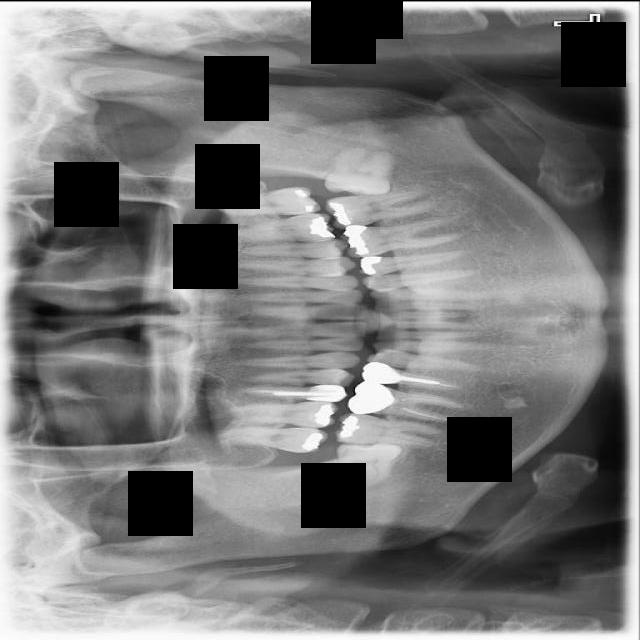52: (321, 185, 377, 237), (345, 374, 398, 425), (333, 408, 380, 448), (340, 224, 391, 259), (269, 184, 323, 217), (288, 209, 336, 245), (289, 398, 339, 429), (276, 426, 328, 454), (359, 358, 403, 389), (358, 255, 398, 276), (306, 384, 347, 401)
73: (384, 388, 466, 425), (396, 369, 466, 393), (238, 383, 310, 400), (566, 46, 579, 52)
BioHorizons Implant: (215, 185, 323, 217)
Biomet 3i Implant: (323, 143, 396, 200)
Blue Sky Bio Implant: (324, 187, 438, 230)
Caries: (216, 425, 328, 453)
Implant: (334, 411, 441, 451)
Keystone Dental Implant: (332, 439, 402, 486)
